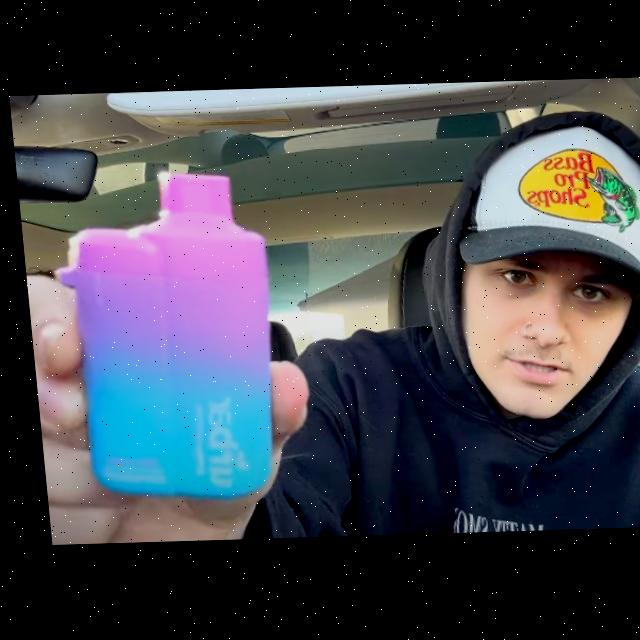vape: (43, 170, 279, 502)
